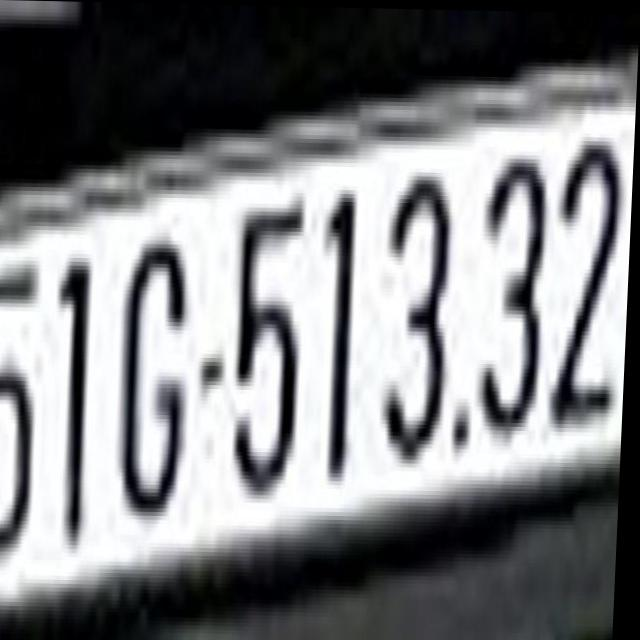1: (315, 168, 364, 480), (56, 261, 99, 557)
2: (550, 137, 623, 418)
3: (373, 150, 460, 474), (472, 121, 553, 433)
5: (233, 167, 310, 502), (0, 256, 44, 563)
G: (118, 223, 194, 532)
